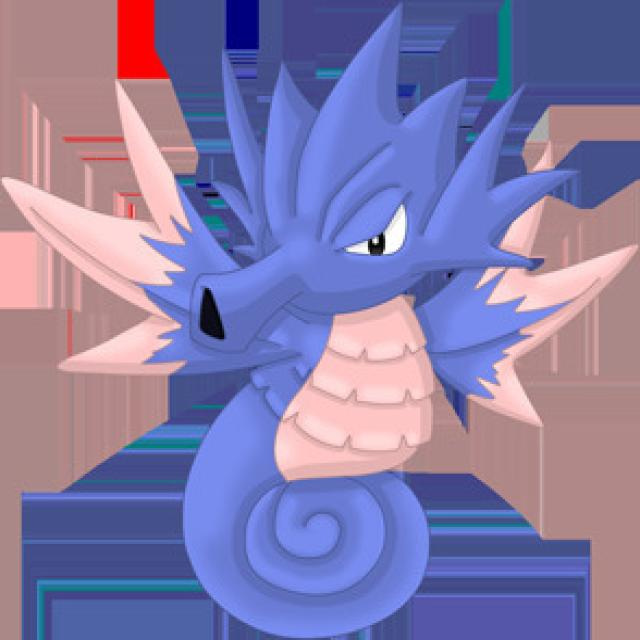Seadra: (181, 35, 543, 636)
